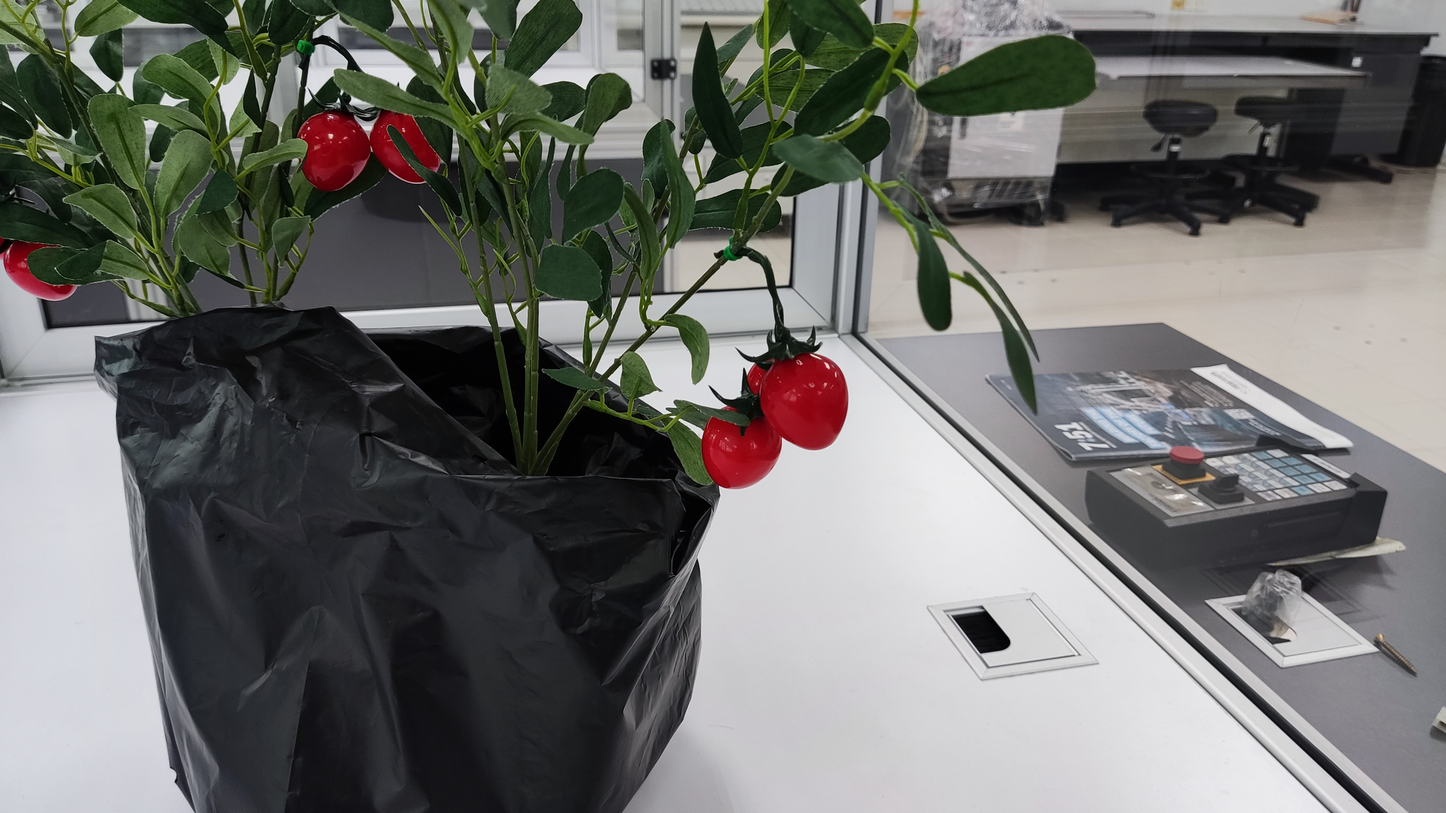peduncle: (745, 247, 779, 300), (314, 35, 353, 61)
strawberry: (761, 352, 849, 449), (297, 108, 369, 189), (702, 416, 782, 488), (368, 108, 441, 182), (1, 240, 74, 299)
